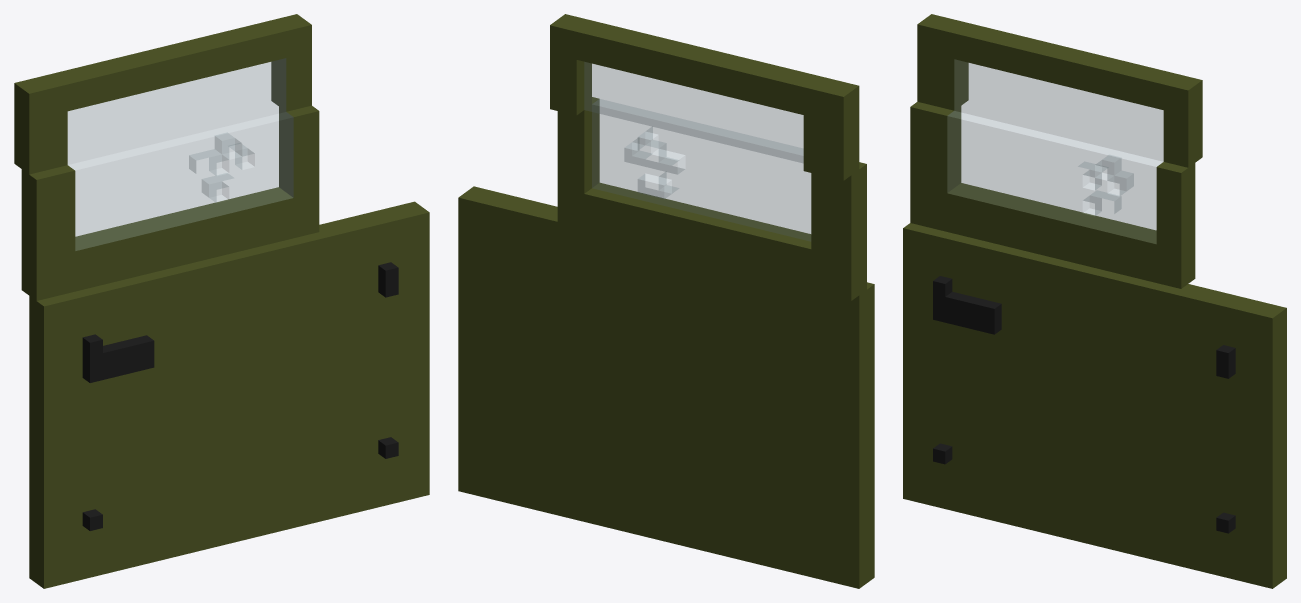
The model's file is utility_4x4_front_door.glb.
3 views of the same model, side by side, from view 1: azimuth 30°, elevation 25°; view 2: azimuth 150°, elevation 25°; view 3: azimuth 330°, elevation 25° (orthographic). The views are drawn at different scales.
Parts seen in each view (by area): view 1: body:compound; view 2: body:compound; view 3: body:compound.
Part boxes in pixels (box(x1,y1,x2,y2)): body:compound: box(14, 14, 429, 588); body:compound: box(458, 14, 874, 588); body:compound: box(903, 14, 1286, 588).
Bounding box in the file's own units: 0.9375 × 1.12 × 0.1562.
